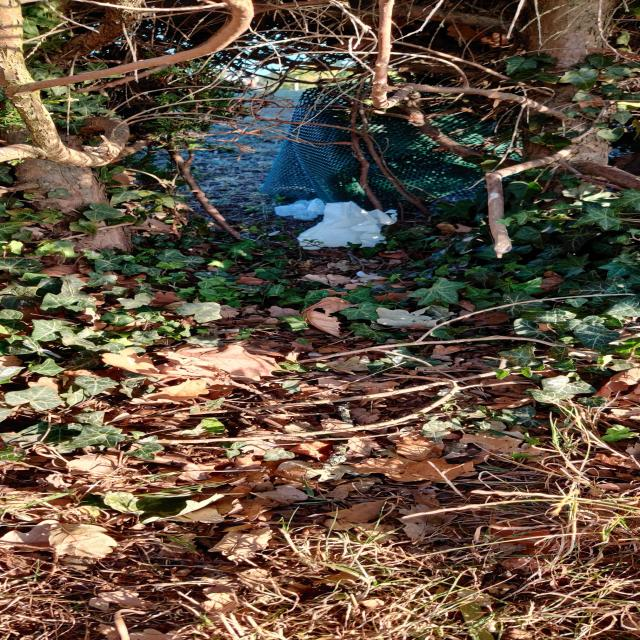litter: (261, 191, 432, 264)
